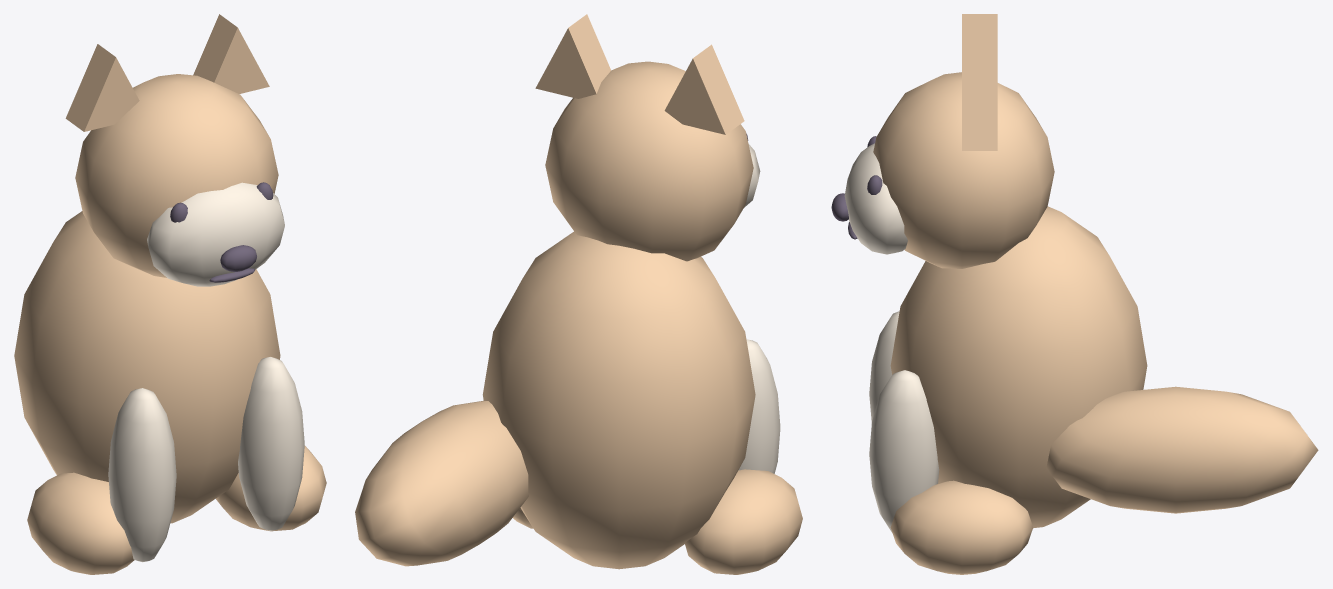
The model's file is cat-support.glb.
3 views of the same model, side by side, from view 1: azimuth 30°, elevation 25°; view 2: azimuth 150°, elevation 25°; view 3: azimuth 270°, elevation 25° (orthographic). The views are drawn at different scales.
Parts seen in each view (by area): view 1: cat support offline illustration; view 2: cat support offline illustration; view 3: cat support offline illustration.
Part boxes in pixels (left/top/right/bottom): cat support offline illustration: left=14, top=14, right=326, bottom=574; cat support offline illustration: left=355, top=14, right=802, bottom=574; cat support offline illustration: left=831, top=14, right=1318, bottom=574.
Size of the model in its own units: 0.4345 by 0.75 by 0.683.
